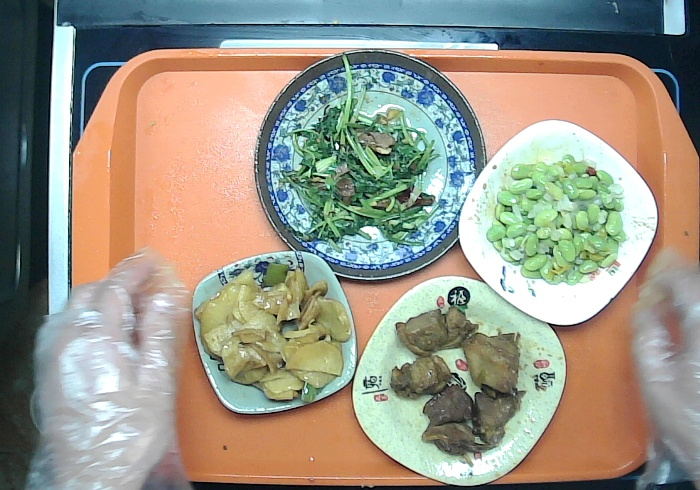NLDX-Bai_Se_Xiao_Fang_Die: (453, 115, 661, 338)
NLDX-Fu_Zi_Fang_Die: (347, 273, 568, 487)
NLDX-Qing_Hua_Xiao_Fang_Die: (186, 246, 364, 422)
NLDX-Qing_Hua_Yuan_Die: (251, 42, 491, 287)
